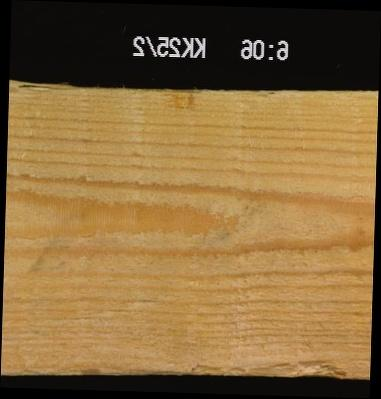wave: (184, 354, 351, 376), (8, 82, 75, 95)
